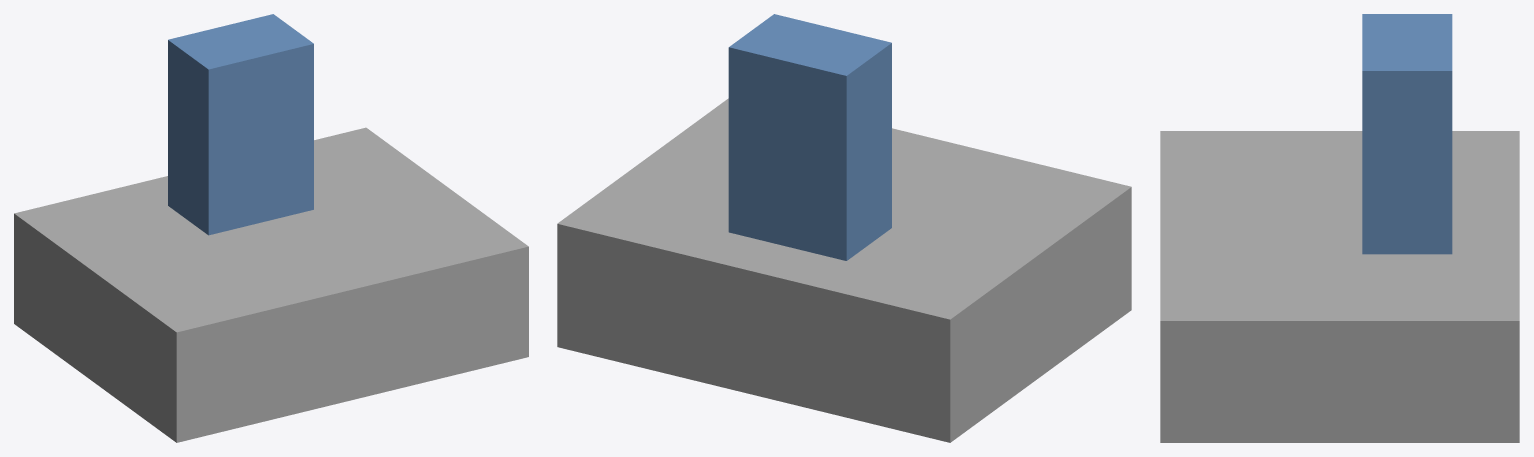
File: forklift_dock.glb
The picture shows the model from 3 angles, left to right: view 1: azimuth 30°, elevation 25°; view 2: azimuth 150°, elevation 25°; view 3: azimuth 270°, elevation 25°; orthographic projection. The views are drawn at different scales.
Visible parts, largest first — view 1: dock, charger; view 2: dock, charger; view 3: dock, charger.
Boxes of the visible parts, x1,y1,x2,y2 form: dock: [14, 127, 528, 442]; charger: [168, 14, 313, 235]; dock: [557, 98, 1131, 442]; charger: [728, 14, 891, 260]; dock: [1160, 131, 1519, 442]; charger: [1362, 14, 1452, 254].
Size of the model in its own units: 2 by 1.5 by 1.6.
